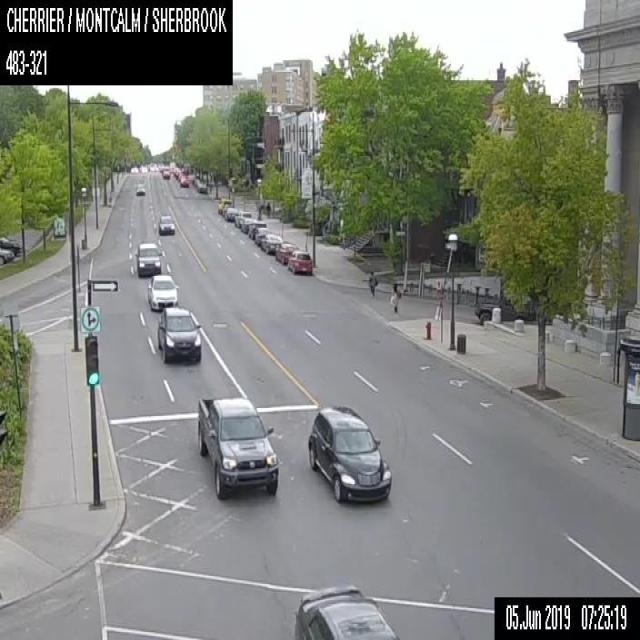pedestrian: (368, 269, 378, 299), (390, 282, 398, 314), (265, 200, 270, 215)
vehicle: (196, 394, 279, 498), (306, 404, 392, 504), (294, 582, 401, 638), (473, 288, 551, 324), (158, 306, 202, 364), (147, 272, 178, 310), (134, 241, 161, 276), (288, 250, 312, 274), (275, 242, 297, 264), (261, 233, 282, 254), (0, 236, 21, 255), (248, 220, 266, 239), (158, 213, 174, 234), (254, 226, 270, 244), (239, 217, 255, 233), (234, 210, 250, 226), (217, 197, 231, 214), (0, 247, 14, 264), (224, 206, 238, 221), (196, 180, 207, 192), (136, 182, 145, 195), (180, 175, 188, 187), (162, 168, 170, 178)
